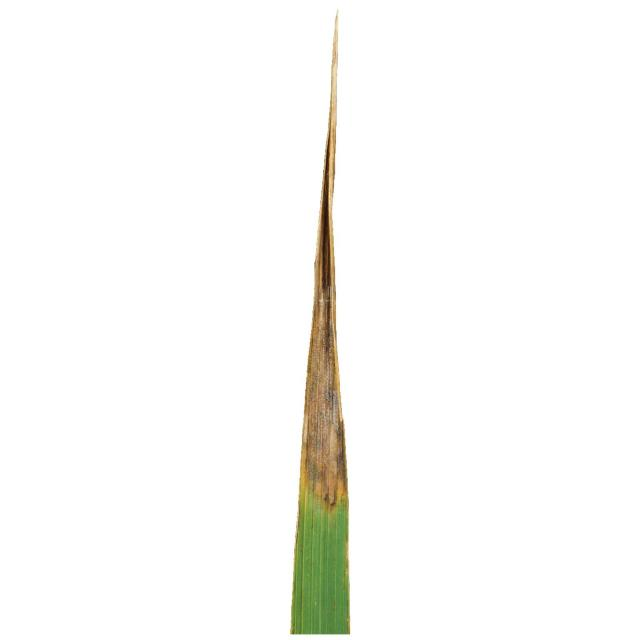Leaf scald: (170, 0, 456, 640)
